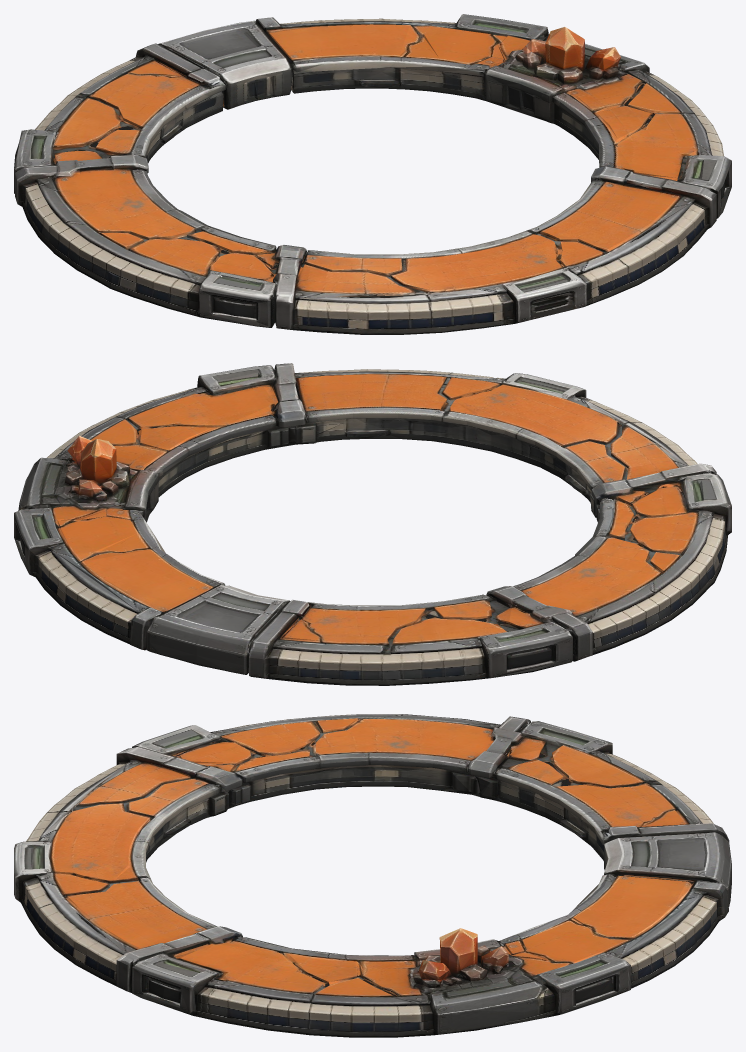
The model's file is foe_marker.fbx.
The picture shows the model from 3 angles, top to bottom: view 1: azimuth 30°, elevation 25°; view 2: azimuth 150°, elevation 25°; view 3: azimuth 270°, elevation 25°; orthographic projection.
Parts seen in each view (by area): view 1: foe_marker; view 2: foe_marker; view 3: foe_marker.
Part boxes in pixels (box(x1,y1,x2,y2)): foe_marker: box(14, 14, 731, 334); foe_marker: box(14, 363, 731, 685); foe_marker: box(14, 714, 731, 1037).
Size of the model in its own units: 2.2 by 0.2462 by 2.2.
Materials: 1 (1 with a texture image).
